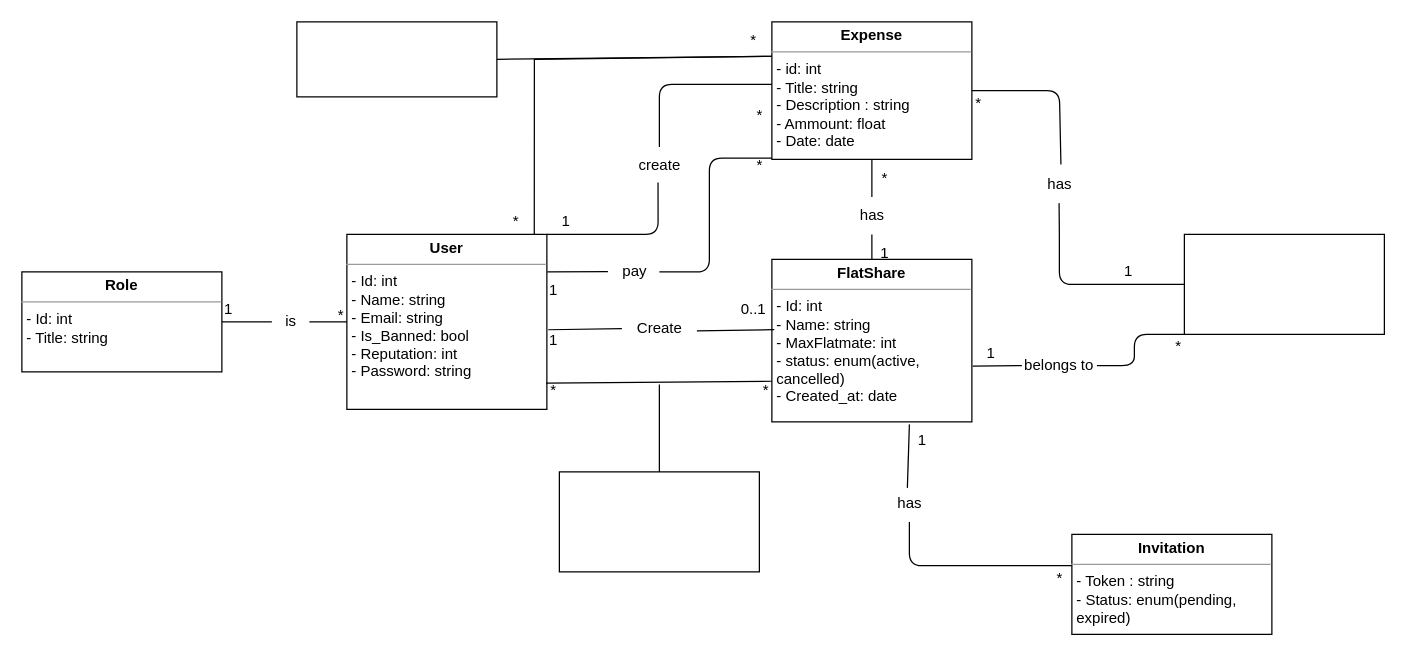
The diagram is 1406 pixels wide and 656 high, and some of its shapes have lost their labels. Each missing label, with the centre of its shape:
Categorie - Id: int - Title: string: (1283,283)
FlatShareUser - Joined_at: date - left_at: date: (658,521)
Payment - Payed: bool: (396,59)
